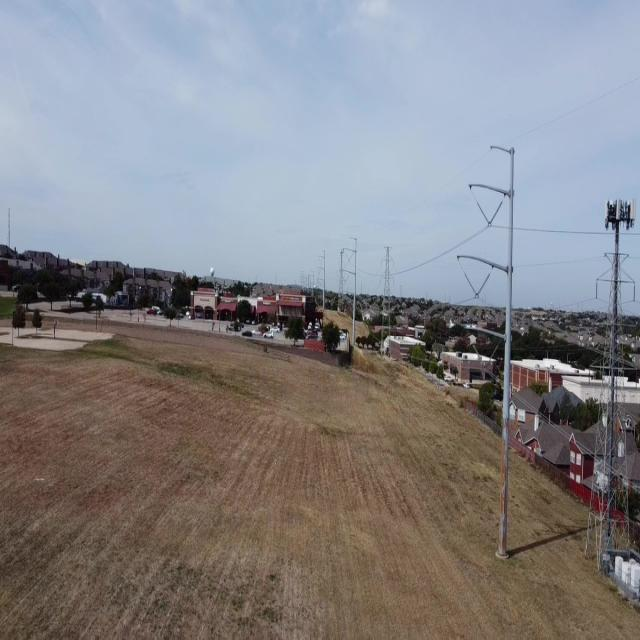杆塔: (580, 234, 640, 574), (372, 237, 400, 359)
正常绝缘子: (483, 195, 508, 234), (473, 268, 495, 303), (460, 265, 481, 301), (481, 341, 501, 377), (474, 197, 494, 231), (470, 339, 488, 375)
